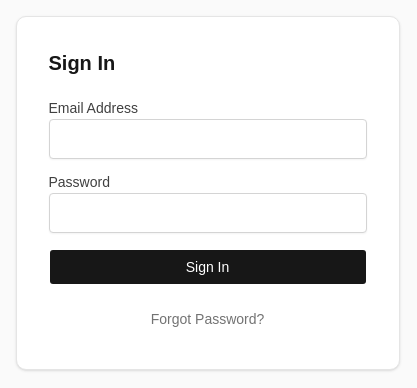
Test: App › navigates between separately-chunked public routes (login -> forgot password)
Expected: the heading "Sign In" is shown, [48,52,115,74]
Click the button "Forgot Password?": click(208, 319) [140,301,275,337]
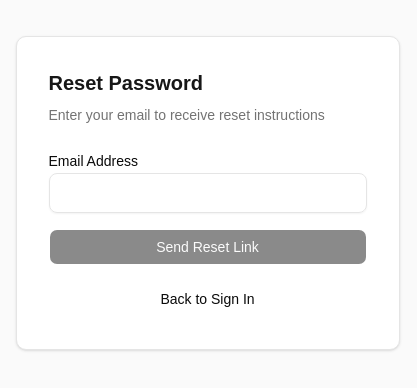
Now the heading "Reset Password" is shown, box [48,72,203,94]
